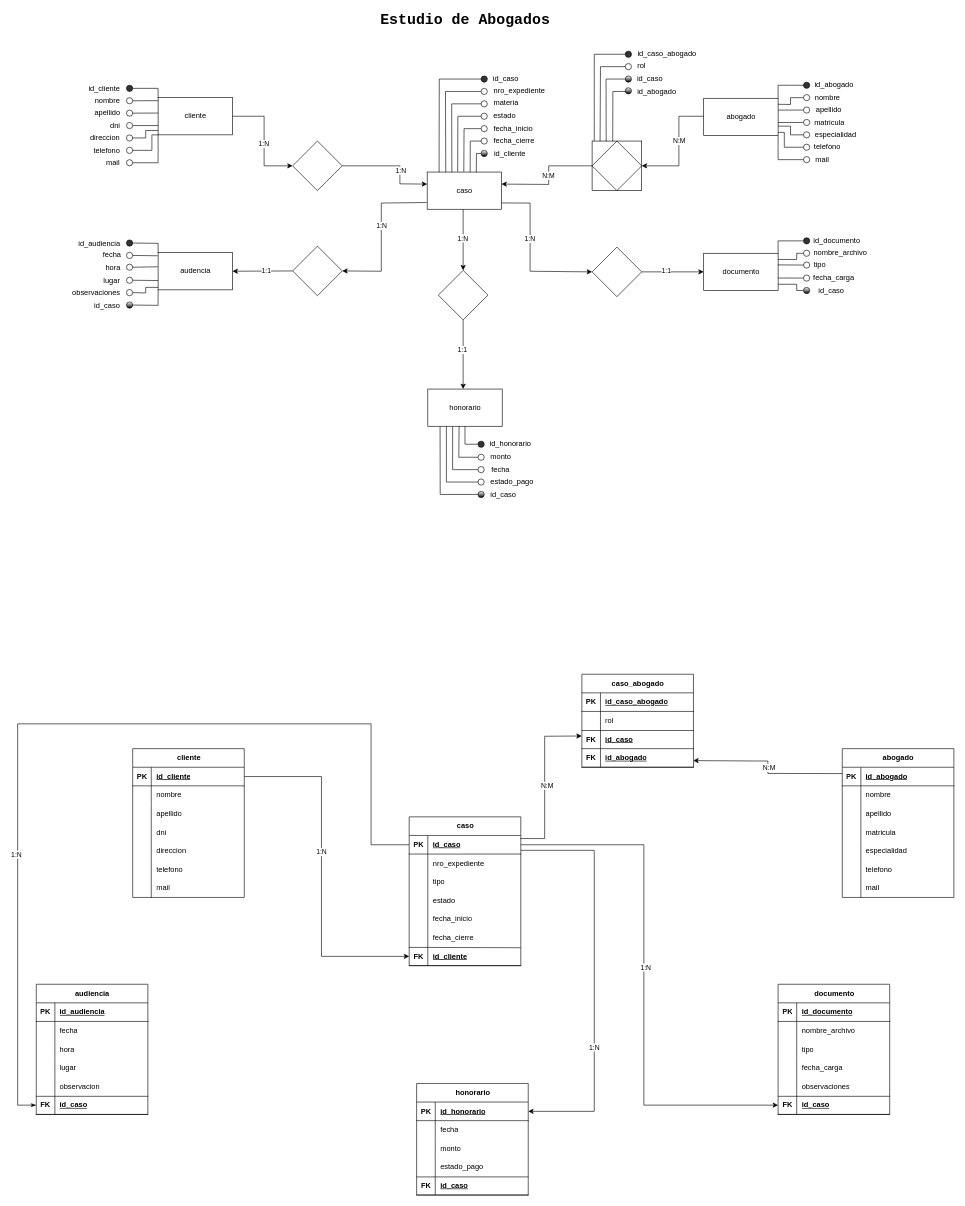
Image size: 965x1206. Some labels were removed from this diagram. Here are the shapes that lost their labels. From the top down, the centre of each, then its label:
point (317, 165): tiene
point (616, 165): interviene
point (317, 271): programa
point (616, 271): incluye
point (463, 295): genera
